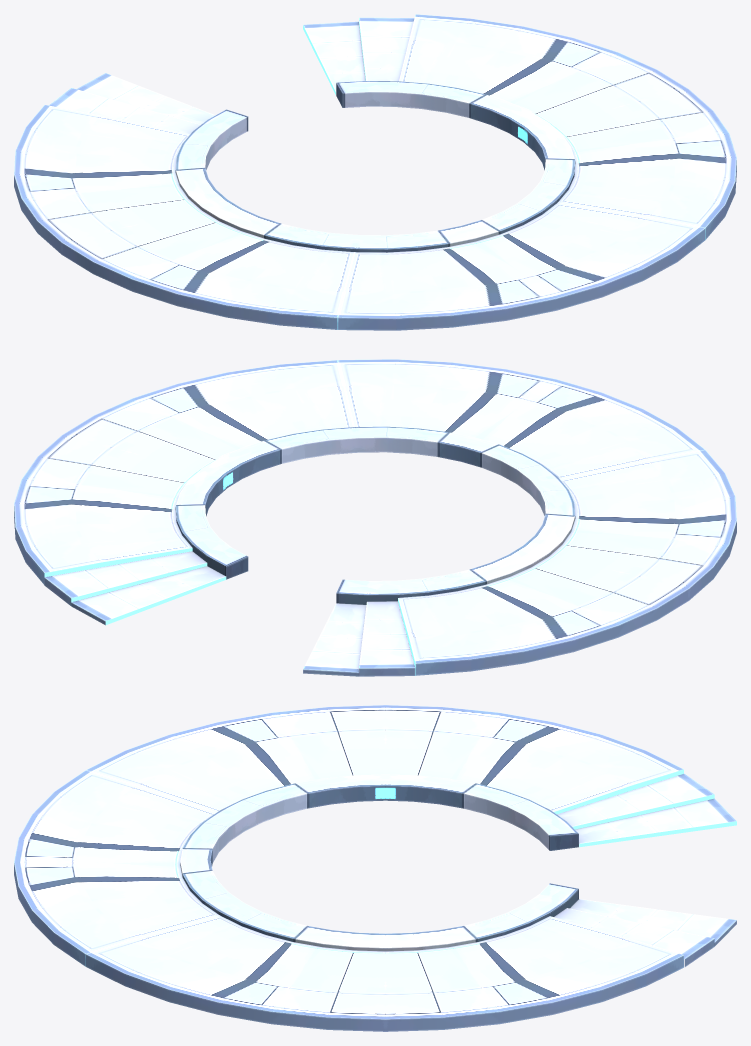
Rendered from obj_lstairs.gltf.
The picture shows the model from 3 angles, top to bottom: view 1: azimuth 30°, elevation 25°; view 2: azimuth 150°, elevation 25°; view 3: azimuth 270°, elevation 25°; orthographic projection. The views are drawn at different scales.
Visible parts, largest first — view 1: obj_lstairs; view 2: obj_lstairs; view 3: obj_lstairs.
Boxes of the visible parts, left/top/right/bottom form: obj_lstairs: left=14, top=14, right=736, bottom=330; obj_lstairs: left=14, top=359, right=736, bottom=676; obj_lstairs: left=14, top=705, right=736, bottom=1031.
Size of what is drawn, in the model's own units: 23.25 by 0.5215 by 22.61.
4 materials, 4 textured.
